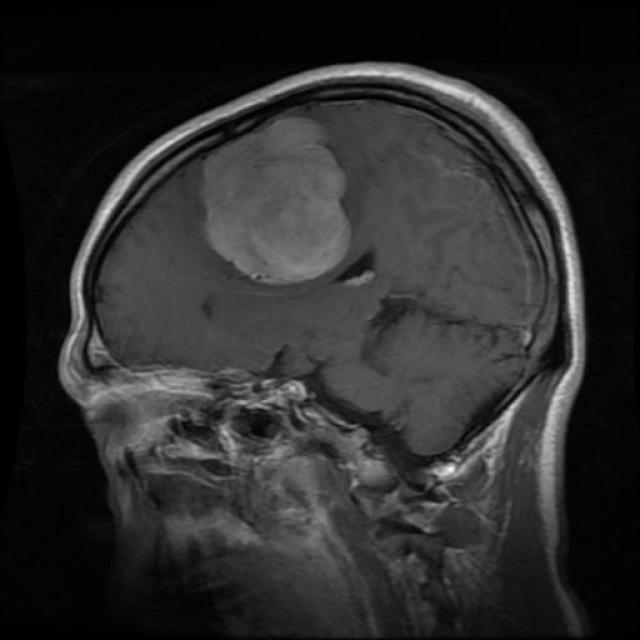meningioma: (201, 119, 351, 285)
